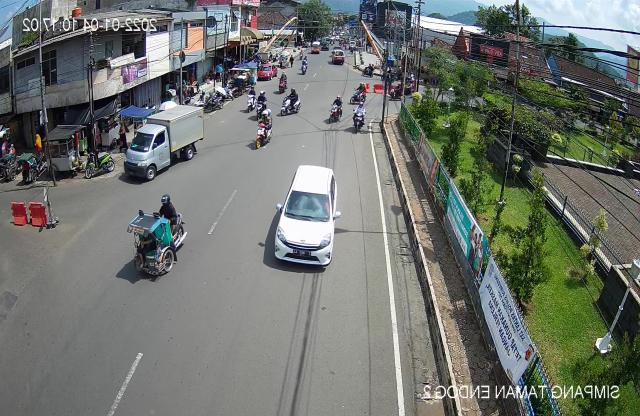Becak: (118, 194, 189, 288)
Mobil: (266, 161, 342, 277)
Motor: (82, 144, 115, 182), (252, 108, 274, 152), (278, 86, 302, 120), (324, 95, 345, 125), (348, 102, 367, 134), (348, 78, 368, 108), (253, 89, 270, 118), (274, 69, 290, 96)
Truk: (121, 99, 206, 186)
